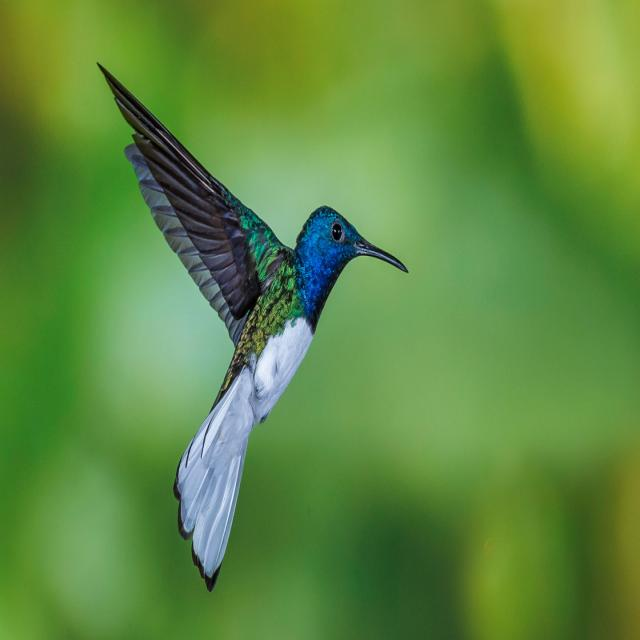Humming Bird: (94, 55, 412, 588)
